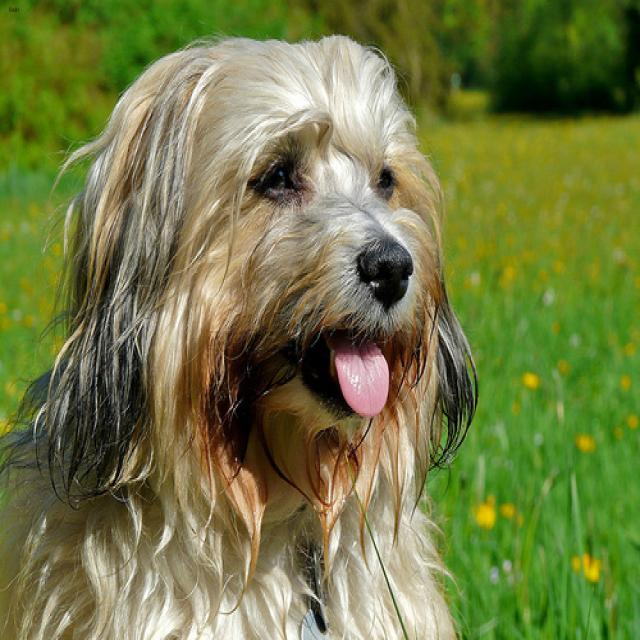dog-havanese: (1, 17, 485, 637)
